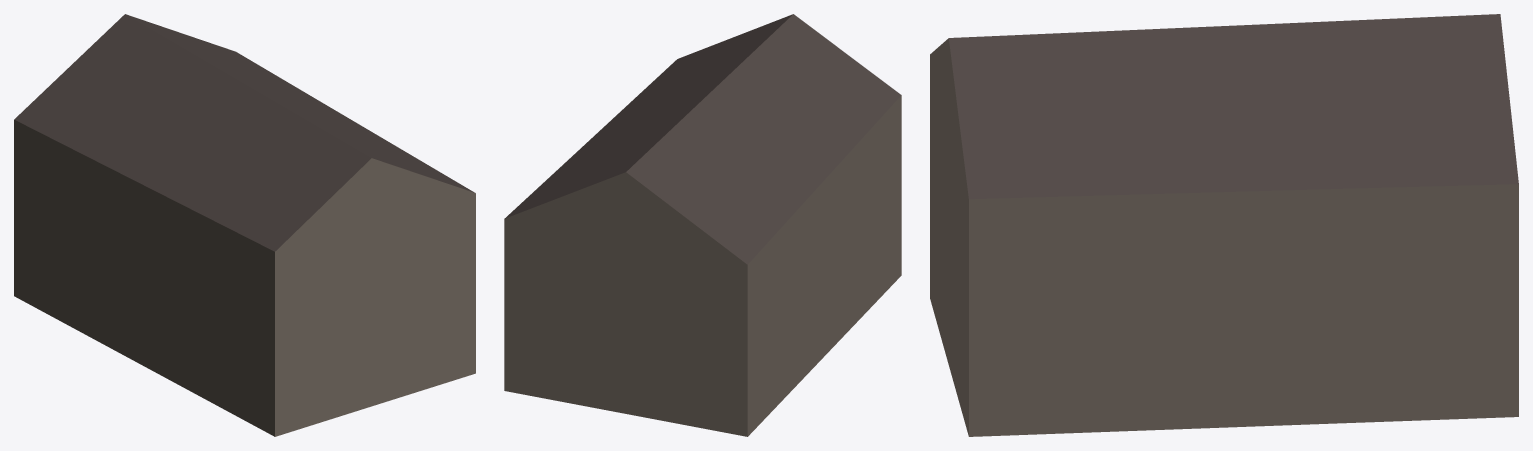
3 renders of one model, left to right at view 1: azimuth 30°, elevation 25°; view 2: azimuth 150°, elevation 25°; view 3: azimuth 270°, elevation 25°, orthographic. The views are drawn at different scales.
Visible parts, largest first — view 1: HP-w1512965874; view 2: HP-w1512965874; view 3: HP-w1512965874.
Boxes of the visible parts, x1=… form: HP-w1512965874: x1=14, y1=14, x2=475, y2=436; HP-w1512965874: x1=504, y1=14, x2=901, y2=436; HP-w1512965874: x1=930, y1=14, x2=1518, y2=436.
Size of the model in its own units: 9.49 by 8.43 by 13.76.
